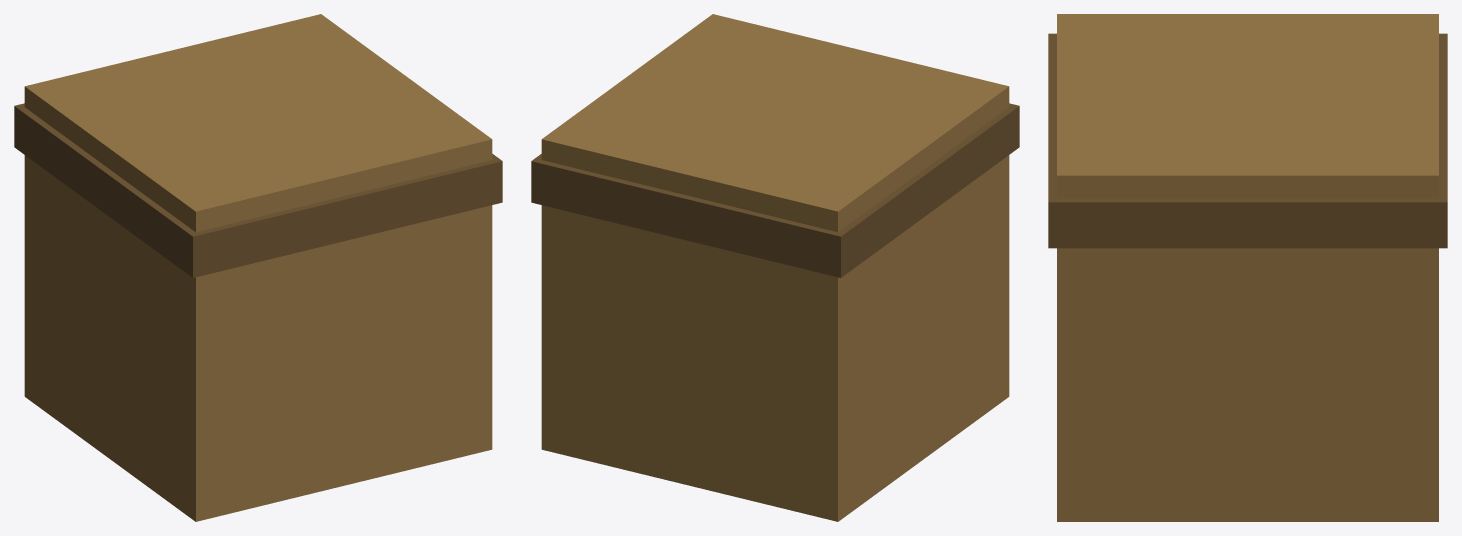
The model's file is prop_crate_01.glb.
3 views of the same model, side by side, from view 1: azimuth 30°, elevation 25°; view 2: azimuth 150°, elevation 25°; view 3: azimuth 270°, elevation 25° (orthographic). The views are drawn at different scales.
Visible parts, largest first — view 1: prop_crate_01_part0, prop_crate_01_part1; view 2: prop_crate_01_part0, prop_crate_01_part1; view 3: prop_crate_01_part0, prop_crate_01_part1.
Part boxes in pixels (<box>): prop_crate_01_part0: <box>24,14,492,521</box>; prop_crate_01_part1: <box>14,103,502,277</box>; prop_crate_01_part0: <box>541,14,1009,521</box>; prop_crate_01_part1: <box>531,103,1019,277</box>; prop_crate_01_part0: <box>1057,14,1438,521</box>; prop_crate_01_part1: <box>1048,33,1447,248</box>.
Size of the model in its own units: 0.94 by 0.9 by 0.94.
